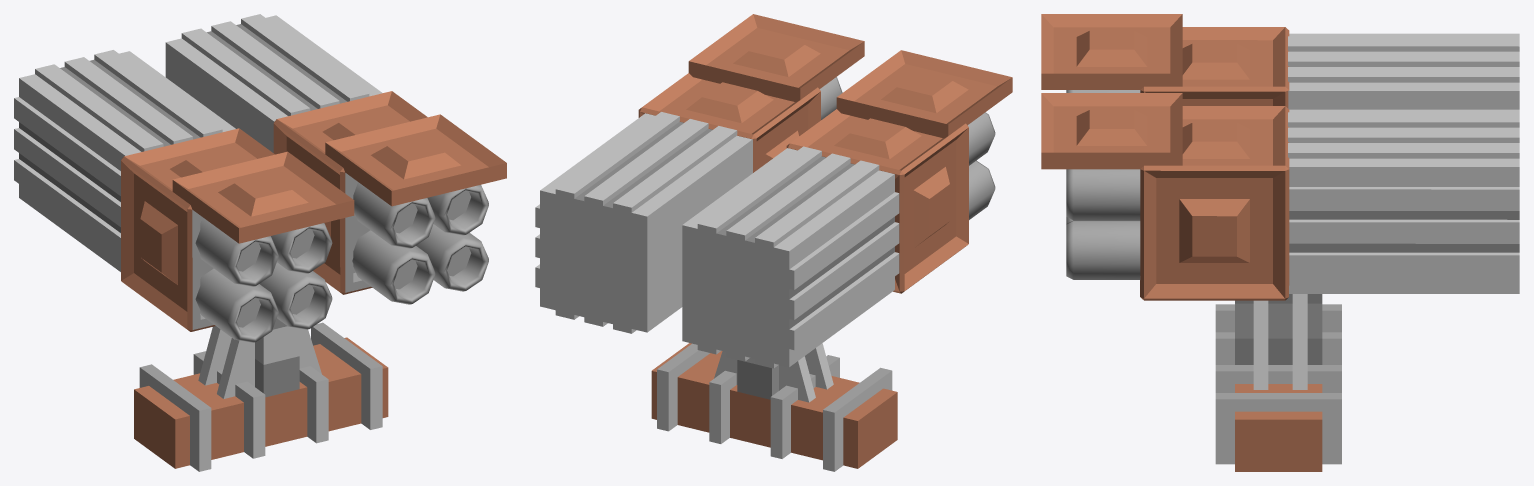
Rendered from RAN_armed.fbx.
3 views of the same model, side by side, from view 1: azimuth 30°, elevation 25°; view 2: azimuth 150°, elevation 25°; view 3: azimuth 270°, elevation 25° (orthographic). The views are drawn at different scales.
Visible parts, largest first — view 1: RAN_armed; view 2: RAN_armed; view 3: RAN_armed.
Part boxes in pixels (x1,y1,x2,y2): RAN_armed: [14, 14, 506, 471]; RAN_armed: [535, 14, 1012, 471]; RAN_armed: [1041, 14, 1519, 471].
Size of the model in its own units: 77.39 by 83.64 by 108.
